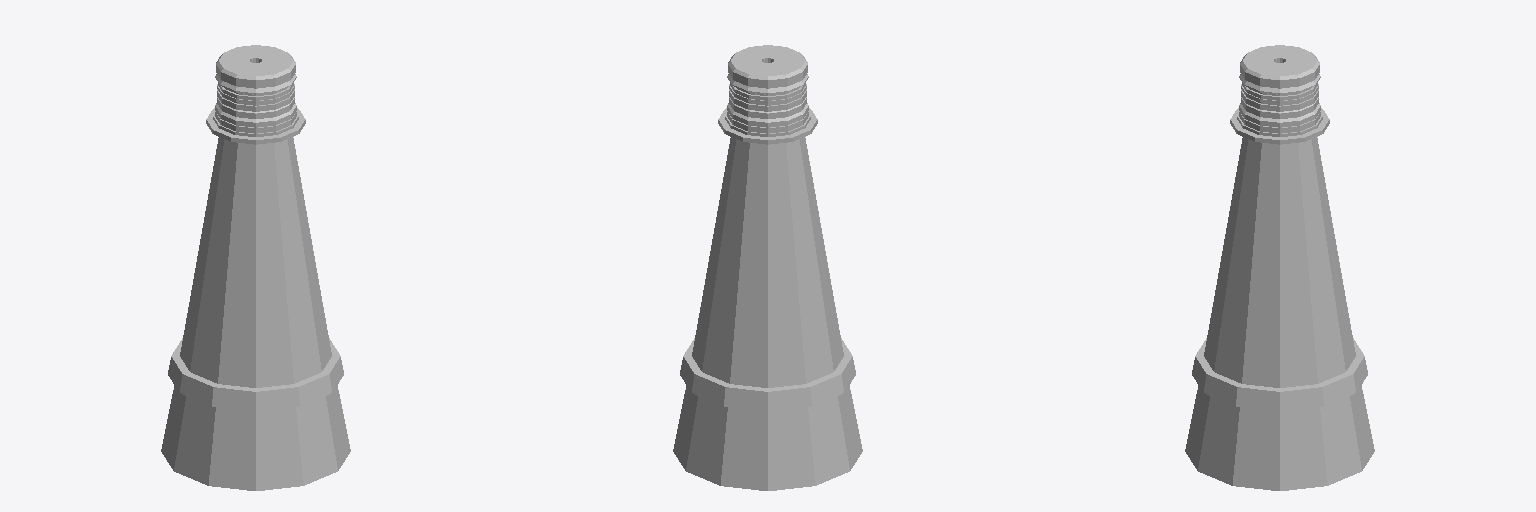
The model's file is conbyfr2.obj.
3 renders of one model, left to right at view 1: azimuth 30°, elevation 25°; view 2: azimuth 150°, elevation 25°; view 3: azimuth 270°, elevation 25°, orthographic.
Visible parts, largest first — view 1: Cylinder.008; view 2: Cylinder.008; view 3: Cylinder.008.
Boxes of the visible parts, box(x1,y1,x2,y2) form: Cylinder.008: box(161, 45, 350, 490); Cylinder.008: box(673, 45, 862, 490); Cylinder.008: box(1185, 45, 1374, 490).
Size of the model in its own units: 1.86 by 4.22 by 1.86.